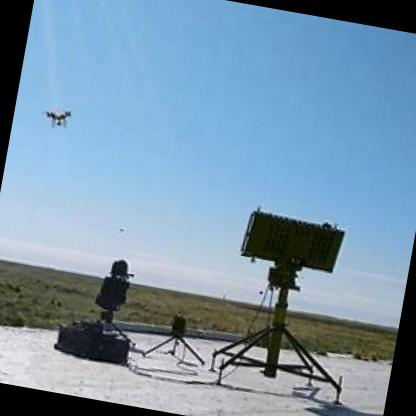drone: (34, 102, 76, 136)
